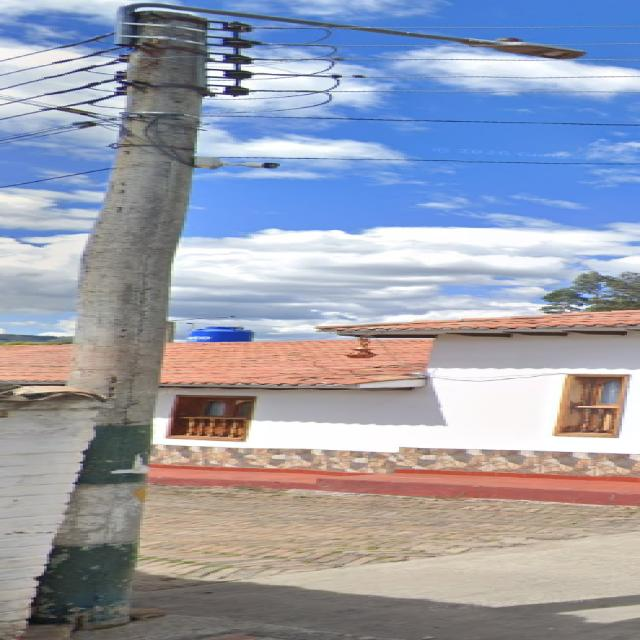Casa: (153, 311, 637, 476), (0, 345, 70, 384)
Poste: (34, 0, 583, 628)
